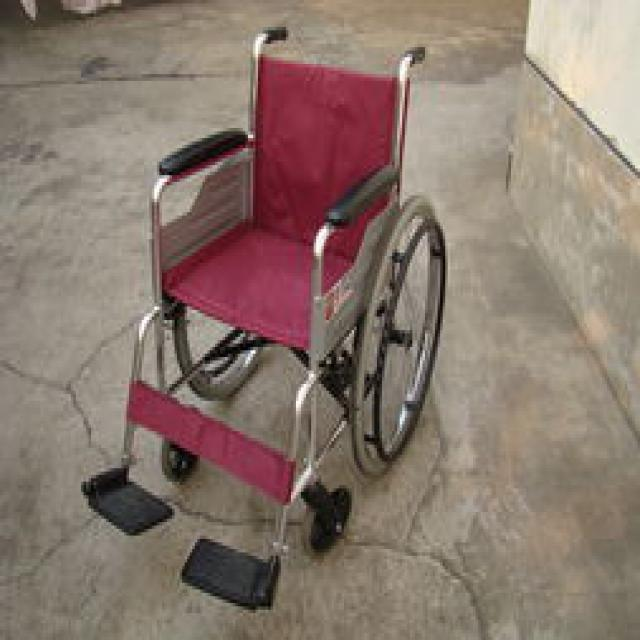wheelchair: (78, 24, 453, 616)
